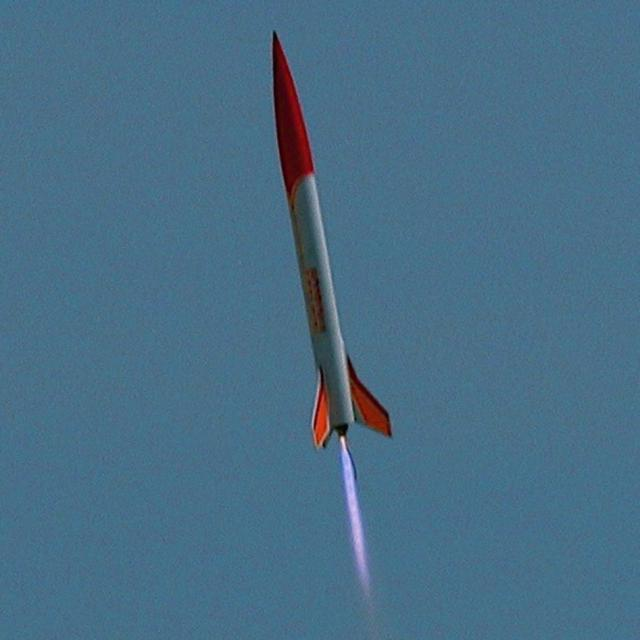missile: (257, 29, 392, 453)
